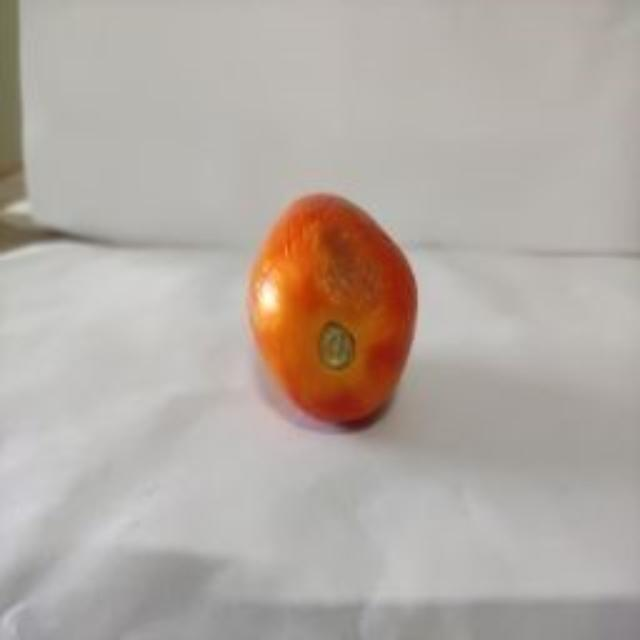defect: (245, 180, 421, 430)
